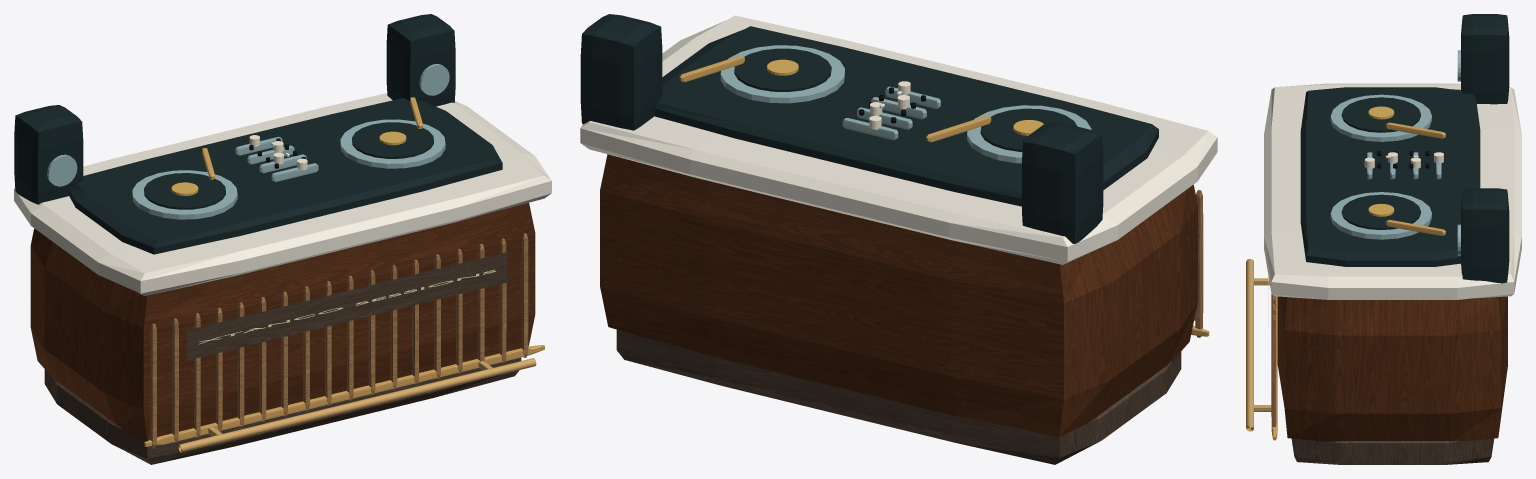
The model's file is hiperreal-hd.glb.
3 views of the same model, side by side, from view 1: azimuth 30°, elevation 25°; view 2: azimuth 150°, elevation 25°; view 3: azimuth 270°, elevation 25° (orthographic). The views are drawn at different scales.
Visible parts, largest first — view 1: Native component 1, Native component 29, Native component 2, Native component 11, Native component 7, Native component 32, Native component 0, Native component 10, Hiperreal barra reposapiés, Native component 4, Sign XTANCO SESSIONS; view 2: Native component 1, Native component 29, Native component 2, Native component 0, Native component 32, Native component 10, Native component 11, Native component 4, Native component 40; view 3: Native component 29, Native component 1, Native component 2, Native component 0, Native component 32, Hiperreal barra reposapiés, Native component 10, Native component 11, Native component 4, Native component 40.
Boxes of the visible parts, x1=… form: Native component 1: x1=30, y1=203, x2=535, y2=440; Native component 29: x1=14, y1=14, x2=502, y2=254; Native component 2: x1=14, y1=93, x2=551, y2=295; Native component 11: x1=150, y1=233, x2=528, y2=448; Native component 7: x1=187, y1=252, x2=507, y2=360; Native component 32: x1=47, y1=64, x2=449, y2=219; Native component 0: x1=44, y1=357, x2=521, y2=464; Native component 10: x1=144, y1=97, x2=544, y2=446; Hiperreal barra reposapiés: x1=178, y1=358, x2=536, y2=452; Native component 4: x1=171, y1=131, x2=406, y2=195; Sign XTANCO SESSIONS: x1=198, y1=269, x2=495, y2=344; Native component 1: x1=600, y1=154, x2=1197, y2=436; Native component 29: x1=580, y1=14, x2=1158, y2=243; Native component 2: x1=580, y1=15, x2=1217, y2=264; Native component 0: x1=616, y1=329, x2=1181, y2=464; Native component 32: x1=720, y1=45, x2=1091, y2=163; Native component 10: x1=679, y1=56, x2=1209, y2=336; Native component 11: x1=1195, y1=190, x2=1203, y2=337; Native component 4: x1=767, y1=59, x2=1043, y2=135; Native component 40: x1=869, y1=81, x2=910, y2=129; Native component 29: x1=1300, y1=14, x2=1509, y2=283; Native component 1: x1=1277, y1=296, x2=1507, y2=441; Native component 2: x1=1264, y1=83, x2=1521, y2=299; Native component 0: x1=1291, y1=438, x2=1493, y2=464; Native component 32: x1=1330, y1=50, x2=1460, y2=255; Hiperreal barra reposapiés: x1=1246, y1=259, x2=1253, y2=431; Native component 10: x1=1272, y1=122, x2=1445, y2=440; Native component 11: x1=1271, y1=294, x2=1276, y2=431; Native component 4: x1=1368, y1=106, x2=1394, y2=216; Native component 40: x1=1364, y1=152, x2=1443, y2=168.
Bounding box in the file's own units: 2.1 × 1.29 × 1.2.
14 materials, 4 textured.
